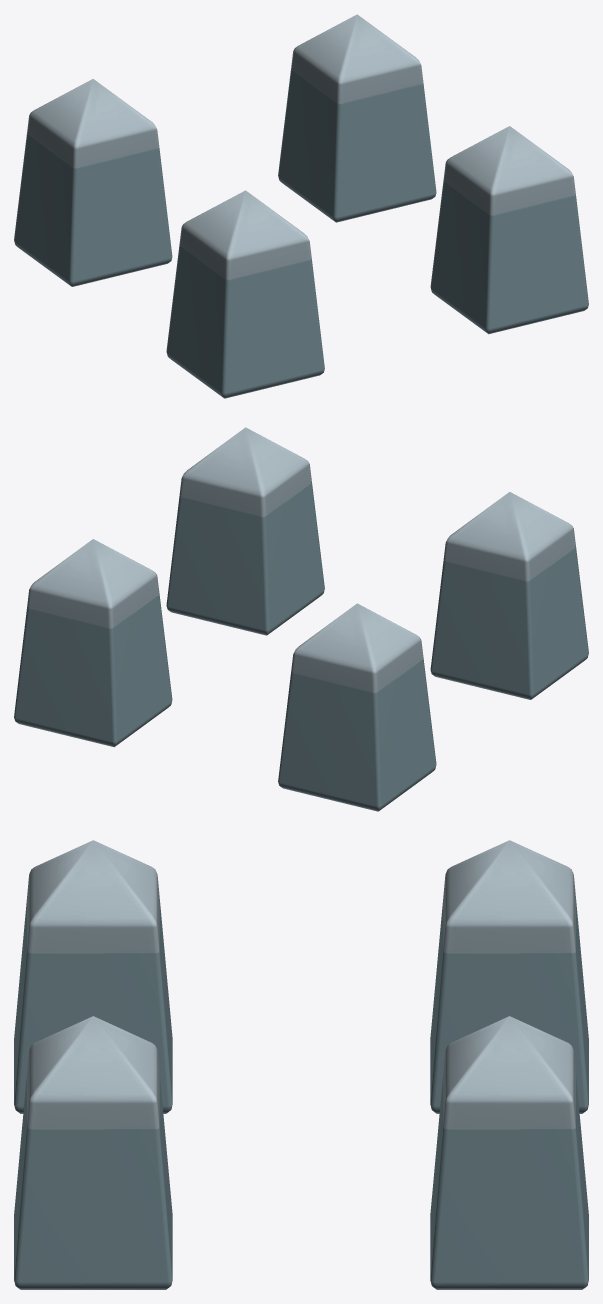
Rendered from Props.fbx.
3 views of the same model, one above another, from view 1: azimuth 30°, elevation 25°; view 2: azimuth 150°, elevation 25°; view 3: azimuth 270°, elevation 25° (orthographic). The views are drawn at different scales.
Visible parts, largest first — view 1: 棱锥 (×4); view 2: 棱锥 (×4); view 3: 棱锥 (×4).
Part boxes in pixels (box(x1,y1,x2,y2)): 棱锥 (×4): box(14, 14, 588, 398); 棱锥 (×4): box(14, 427, 588, 811); 棱锥 (×4): box(14, 840, 588, 1289).
Bounding box in the file's own units: 13.89 × 6.42 × 13.81.
Materials: 1 (1 with a texture image).
